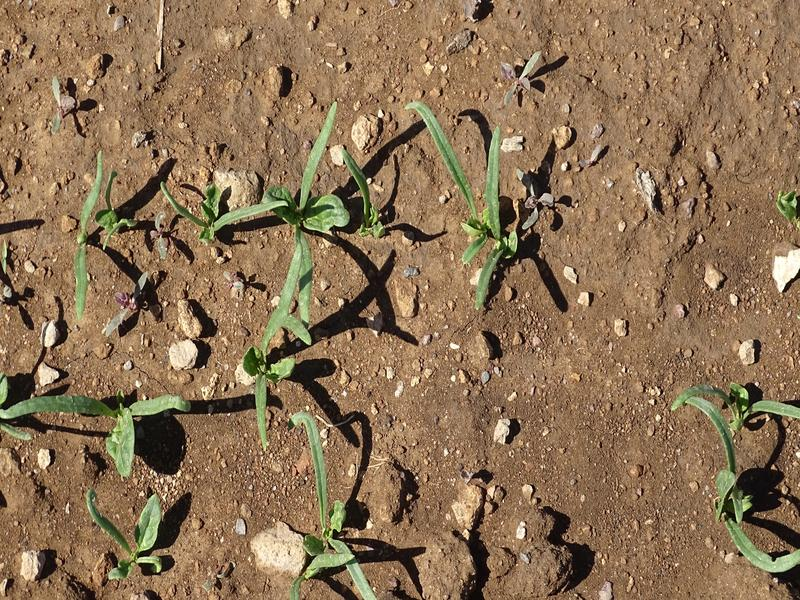Espinaca: (227, 115, 342, 453), (407, 109, 535, 315), (689, 365, 800, 571), (8, 380, 189, 476), (276, 421, 369, 591), (66, 149, 117, 325), (85, 490, 178, 578), (335, 145, 390, 242), (158, 182, 227, 249)
